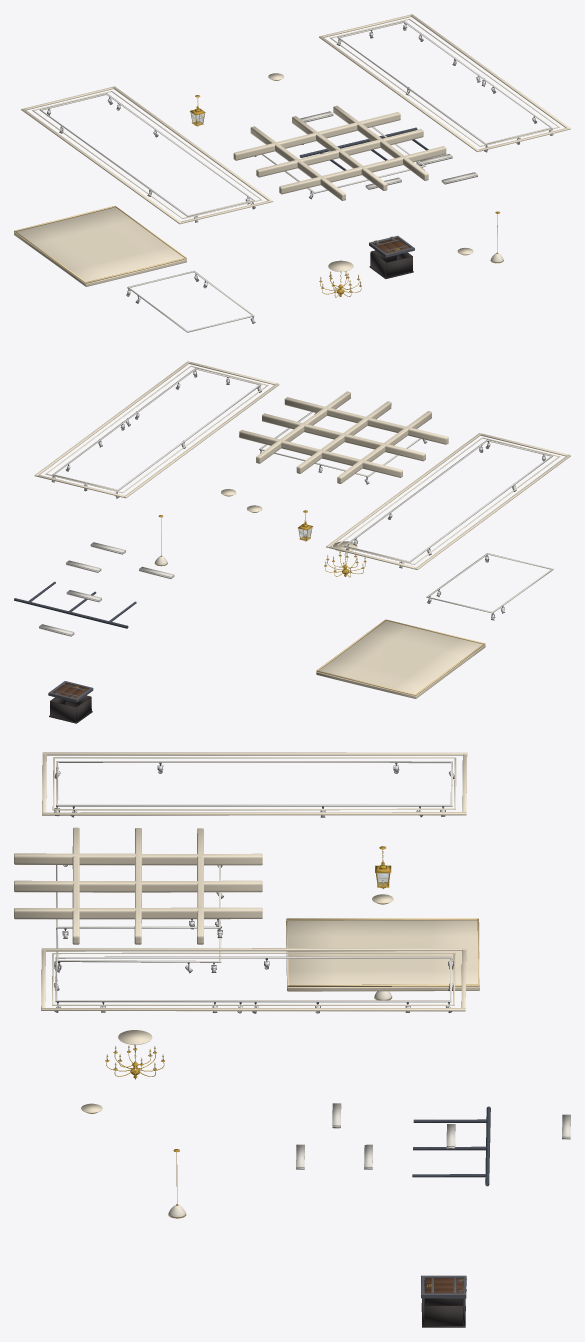
Rendered from Museum_Int_Utilities.fbx.
3 renders of one model, top to bottom at view 1: azimuth 30°, elevation 25°; view 2: azimuth 150°, elevation 25°; view 3: azimuth 270°, elevation 25°, orthographic. The views are drawn at different scales.
Visible parts, largest first — view 1: Int_Ceiling_Features, Hatch_Pit; view 2: Int_Ceiling_Features, Hatch_Pit; view 3: Int_Ceiling_Features, Hatch_Pit.
Boxes of the visible parts, x1,y1,x2,y2 form: Int_Ceiling_Features: (14, 14, 570, 332); Hatch_Pit: (369, 250, 413, 278); Int_Ceiling_Features: (14, 361, 570, 698); Hatch_Pit: (49, 695, 92, 723); Int_Ceiling_Features: (14, 752, 570, 1218); Hatch_Pit: (421, 1298, 465, 1327).
Size of the model in its own units: 14.75 by 8.45 by 12.99.
